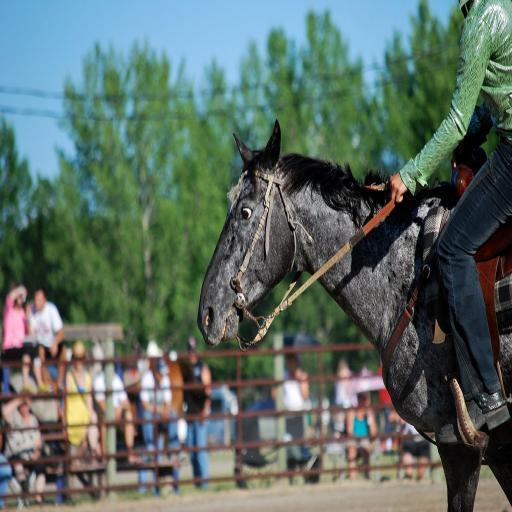horse: (196, 120, 512, 512)
